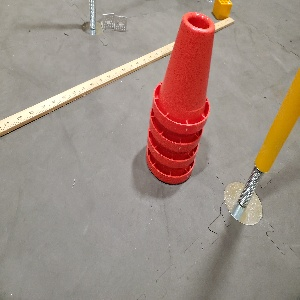Red_4: (146, 17, 221, 180)
